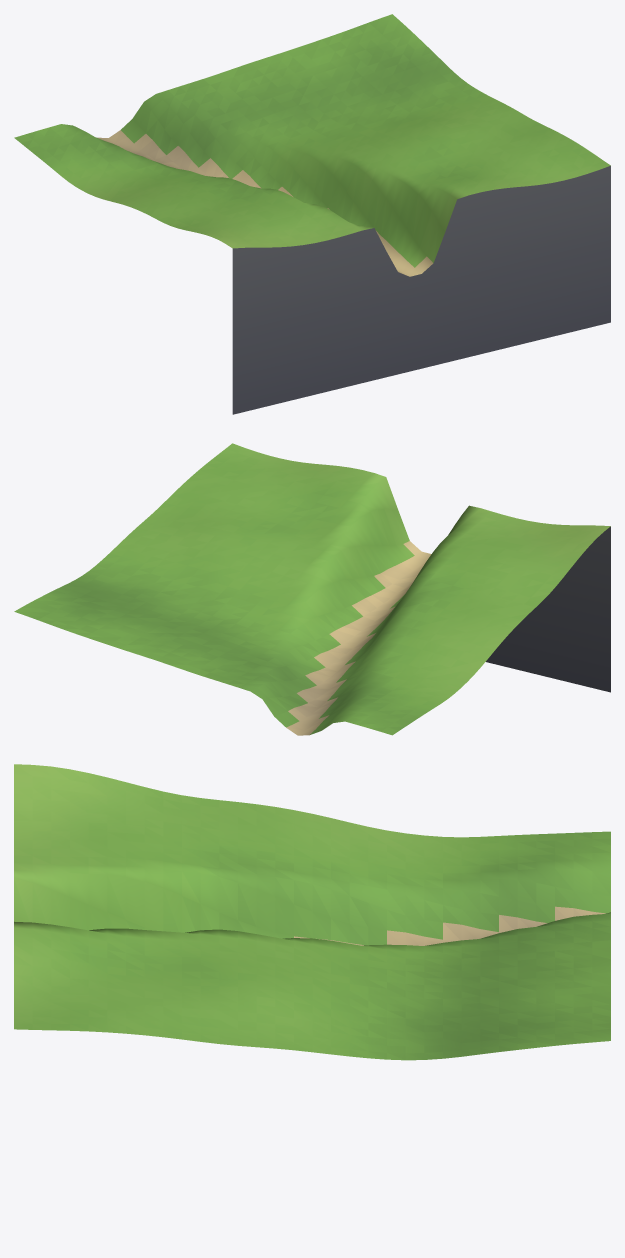
Rendered from terrain_r0_c4.glb.
3 renders of one model, top to bottom at view 1: azimuth 30°, elevation 25°; view 2: azimuth 150°, elevation 25°; view 3: azimuth 270°, elevation 25°, orthographic. The views are drawn at different scales.
Visible parts, largest first — view 1: terrain_r0_c4; view 2: terrain_r0_c4; view 3: terrain_r0_c4.
Part boxes in pixels (x1,y1,x2,y2): terrain_r0_c4: (14, 14, 610, 414); terrain_r0_c4: (14, 443, 610, 735); terrain_r0_c4: (14, 764, 610, 1060).
Bounding box in the file's own units: 128 × 53.78 × 128.
1 material, 1 textured.
